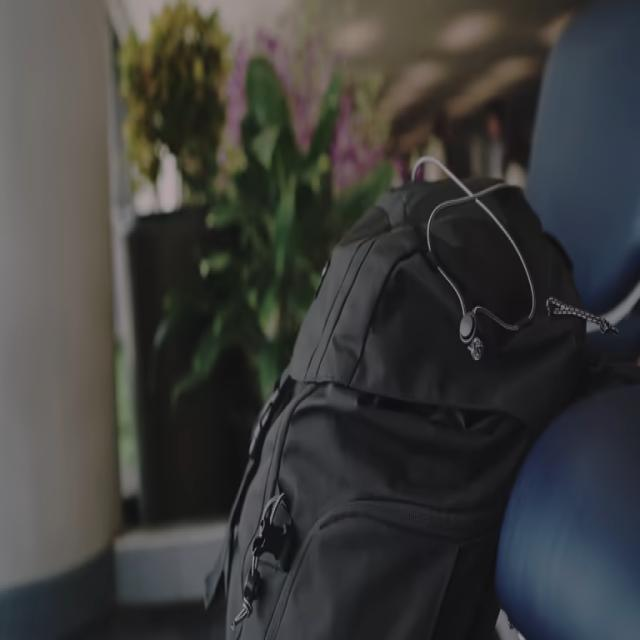bags: (221, 178, 610, 639)
